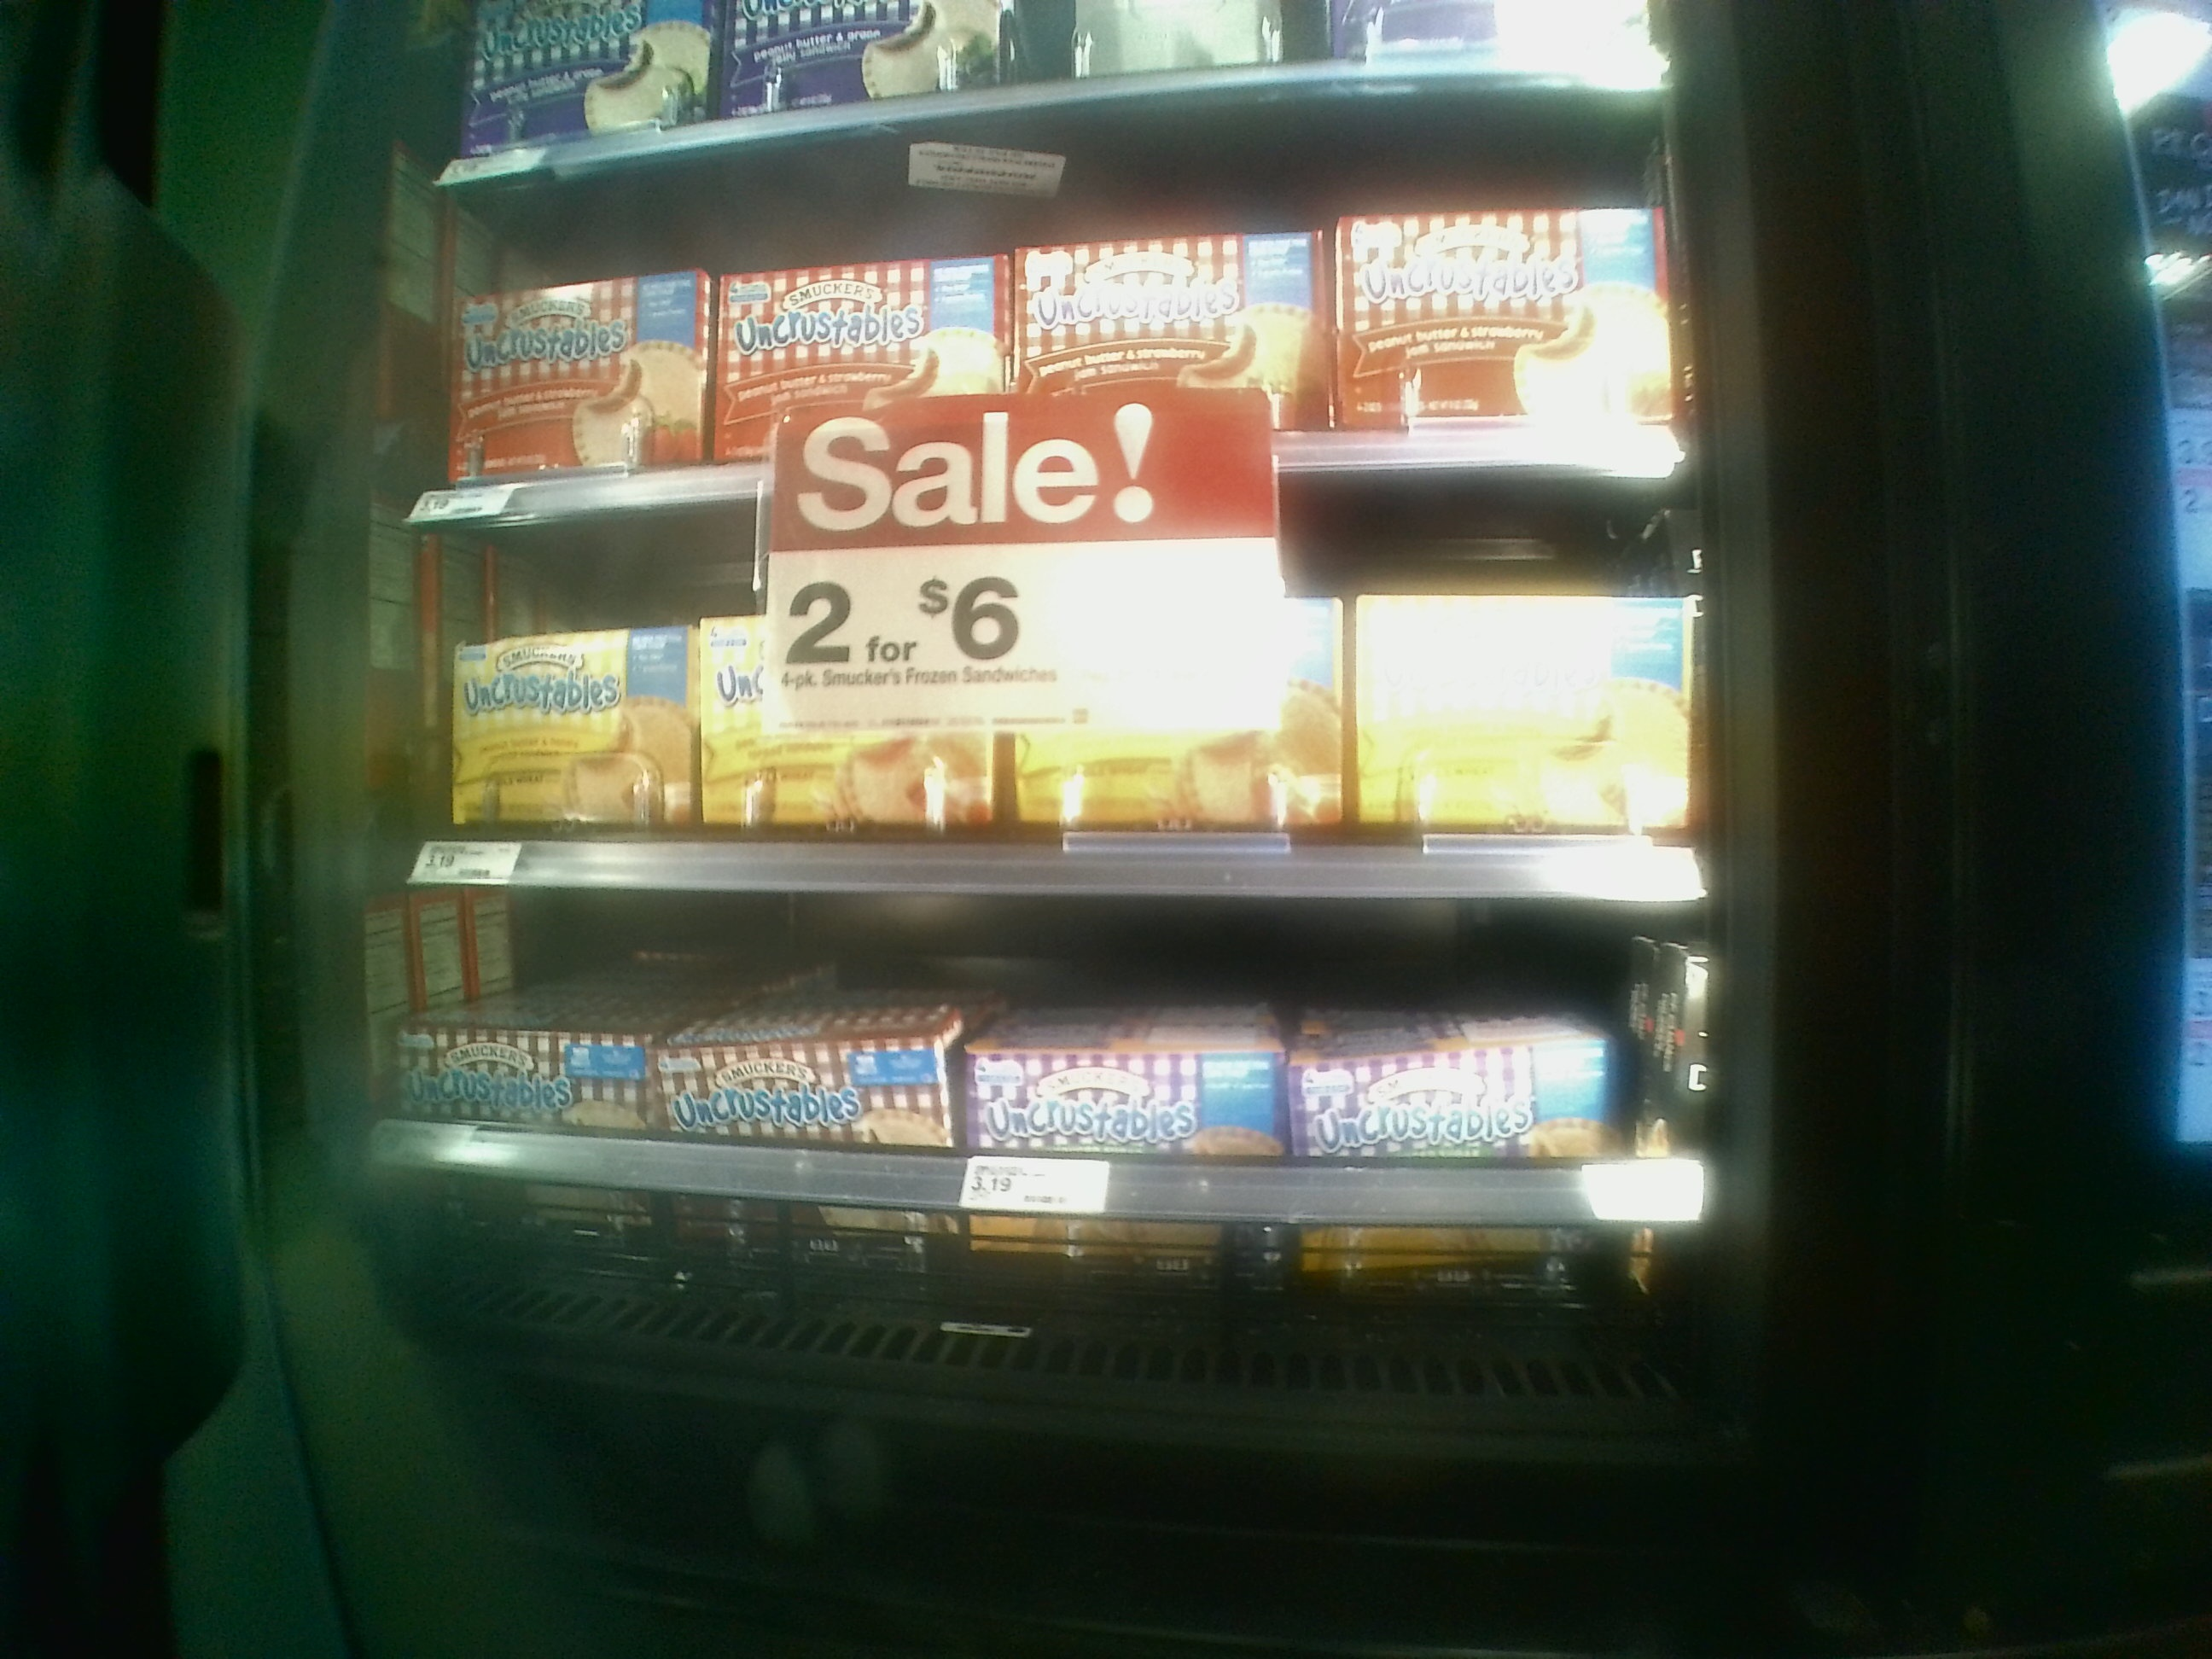shelf: (399, 866, 1730, 1380), (388, 495, 1700, 897), (404, 183, 1667, 460)
